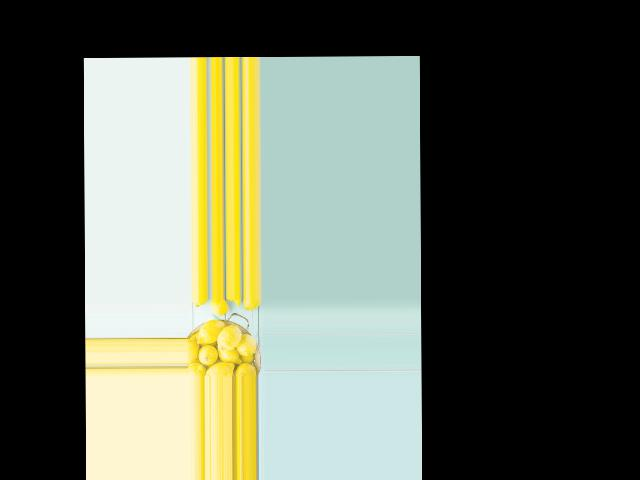lemon: (188, 363, 209, 377)
